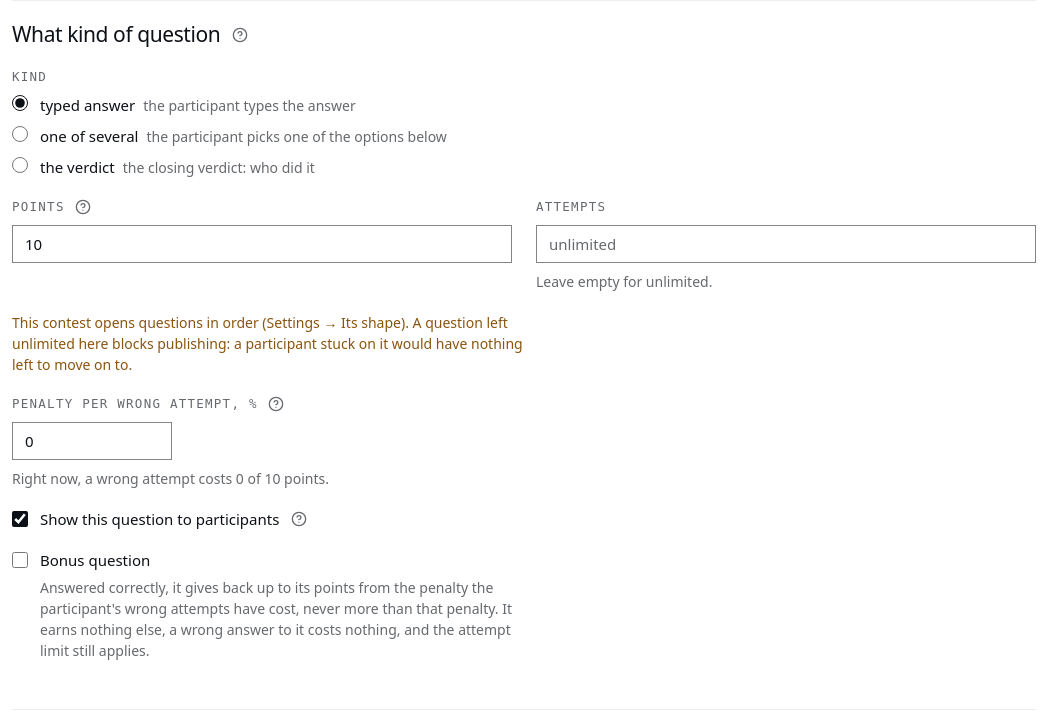
QuestionEditor, the penalty and the sequential warning › warns about the sequential publish-gate refusal only while attempts are unlimited
Expected: the text "This contest opens questions in order (Settings → Its shape). A question left unlimited here blocks publishing: a partic" is shown, left=12, top=313, right=523, bottom=374
Type "3" into the number field labelled "Attempts" at {"x": 786, "y": 244}, box left=536, top=225, right=1036, bottom=263
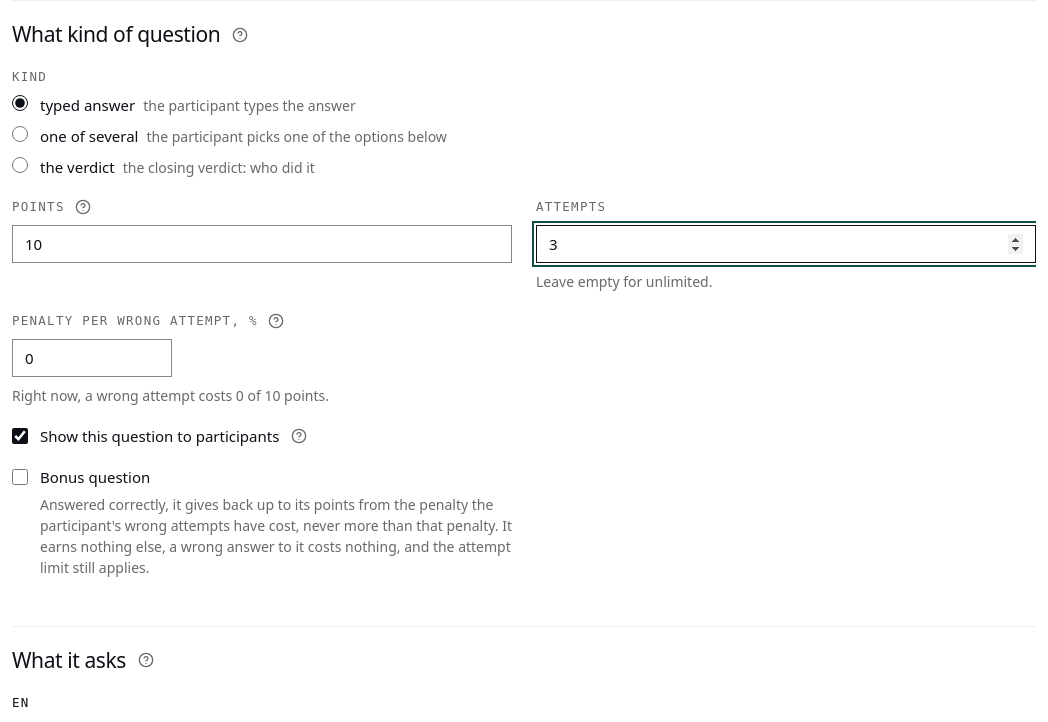
Result: the text "This contest opens questions in order (Settings → Its shape). A question left unlimited here blocks publishing: a partic" is gone
